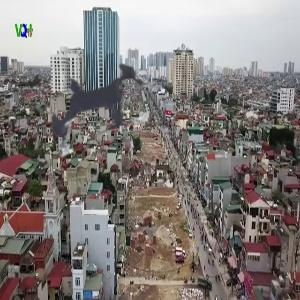drone: (10, 11, 193, 194)
